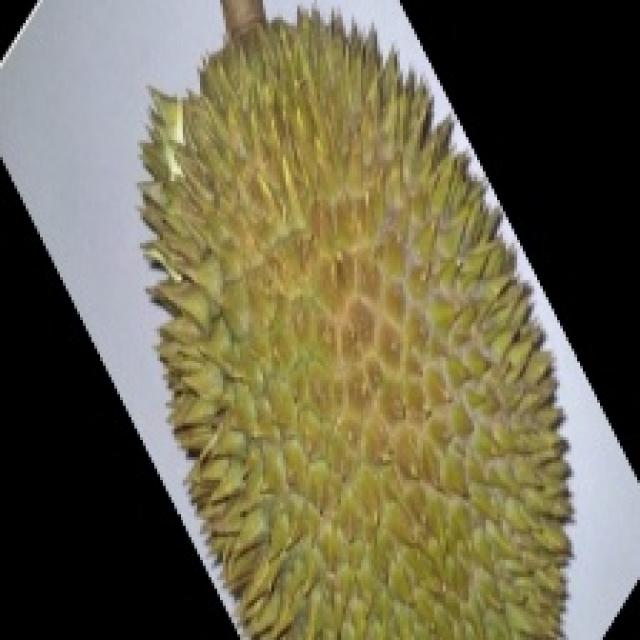d2: (146, 23, 551, 640)
